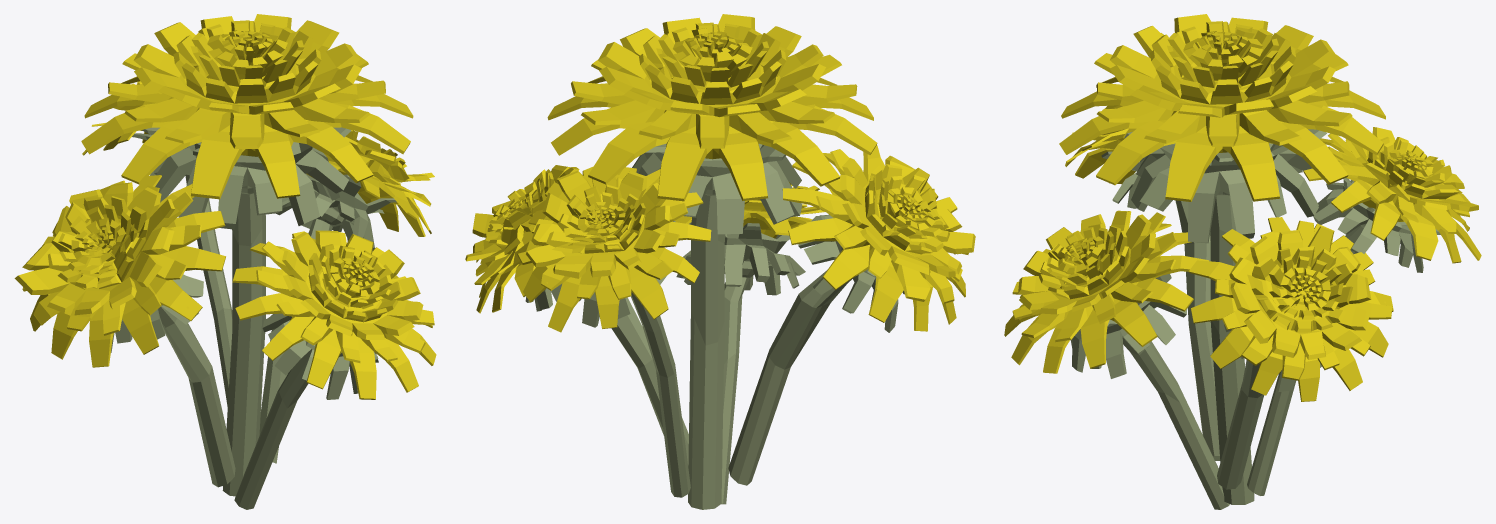
Rendered from pluckedDandilions.fbx.
3 views of the same model, side by side, from view 1: azimuth 30°, elevation 25°; view 2: azimuth 150°, elevation 25°; view 3: azimuth 270°, elevation 25° (orthographic).
Visible parts, largest first — view 1: wholeDandilions; view 2: wholeDandilions; view 3: wholeDandilions.
Part boxes in pixels (left/top/right/bottom): wholeDandilions: left=14, top=14, right=436, bottom=509; wholeDandilions: left=465, top=14, right=975, bottom=509; wholeDandilions: left=1004, top=14, right=1481, bottom=509.
Size of the model in its own units: 5.07 by 5.07 by 4.67.
